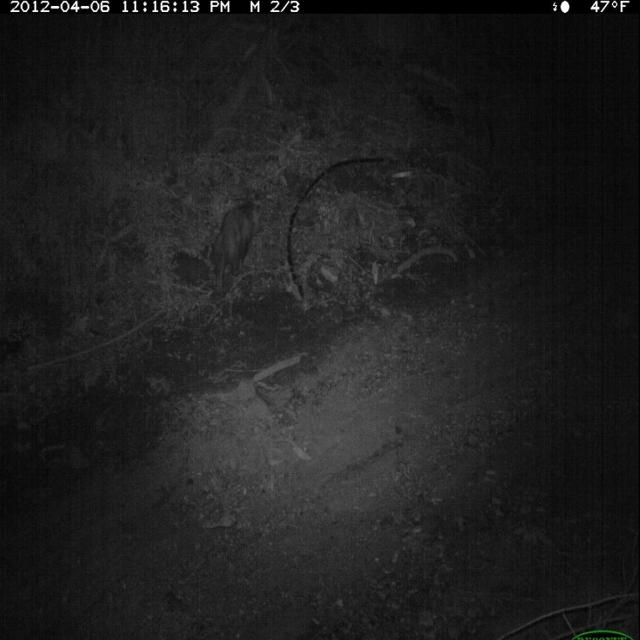opossum: (204, 188, 268, 306)
